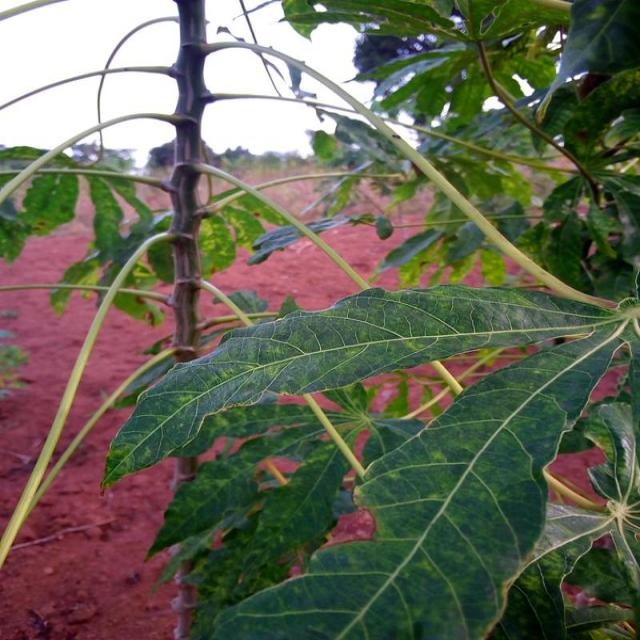cassava leaf: (206, 321, 628, 638), (98, 280, 630, 495)
